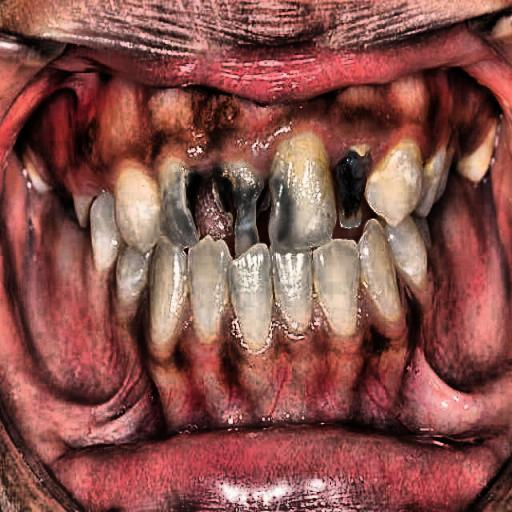Caries: (308, 119, 413, 239), (173, 142, 267, 250)
